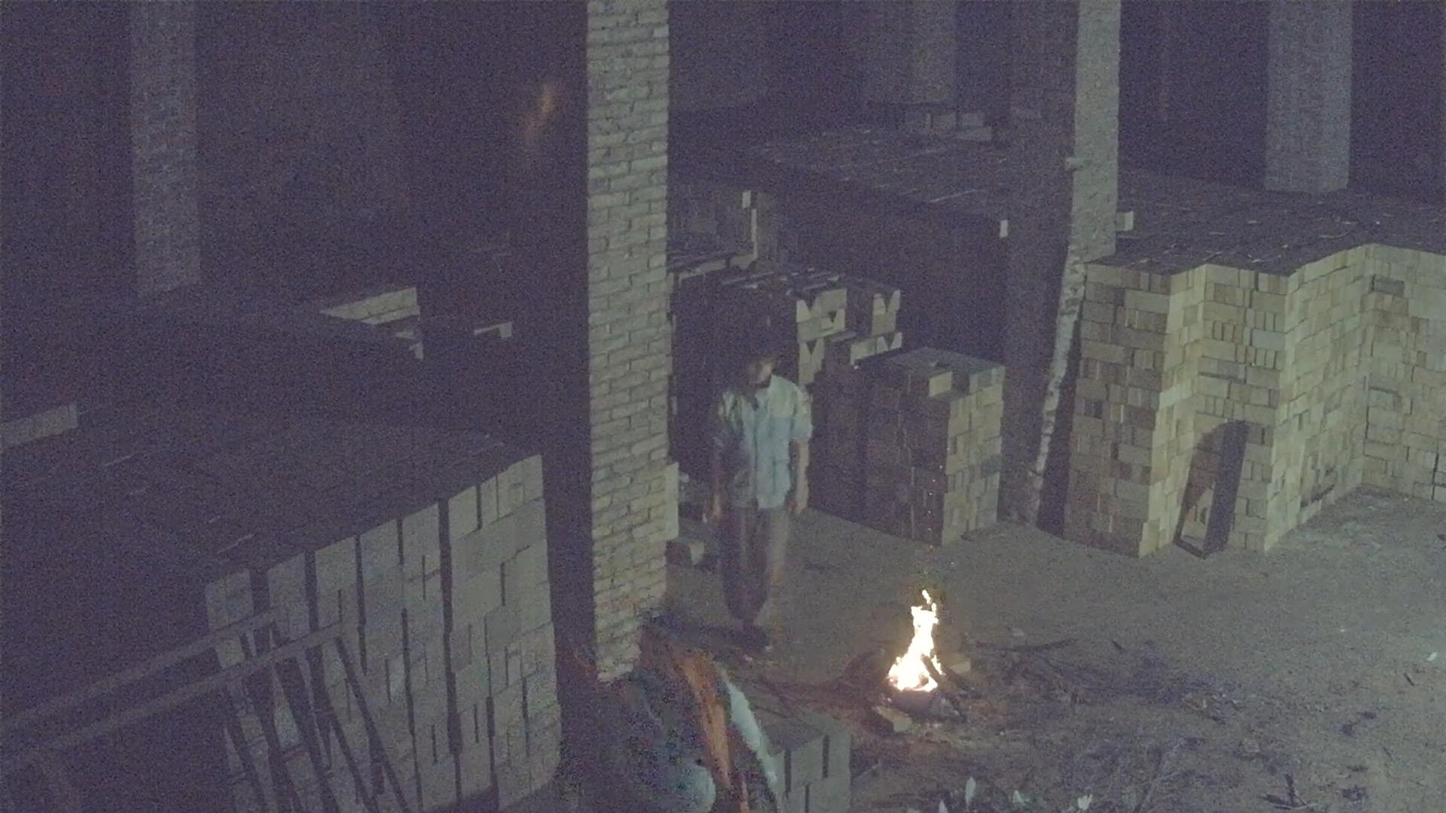fire: (887, 589, 943, 697)
